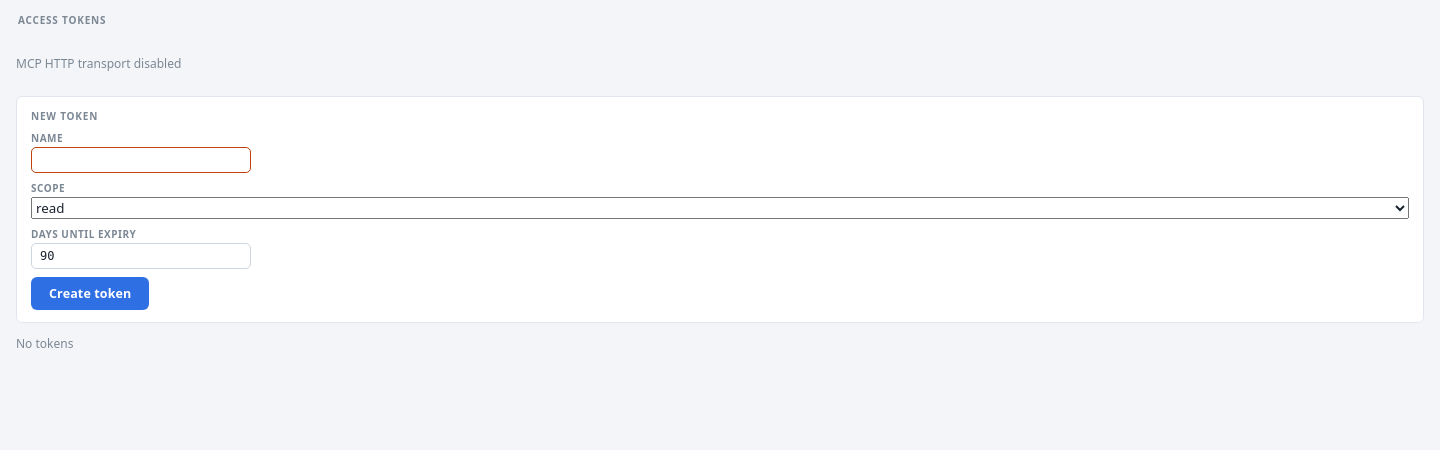
AccessTokensPage: the scope › defaults the scope to read and sends it with the new token
This screenshot has width=1440, height=450.
Check: the dropdown labelled "Scope" shows "read", box [31,197,1409,219]
Type "laptop" into the field labelled "Name" at (141, 160), box [31,147,251,173]
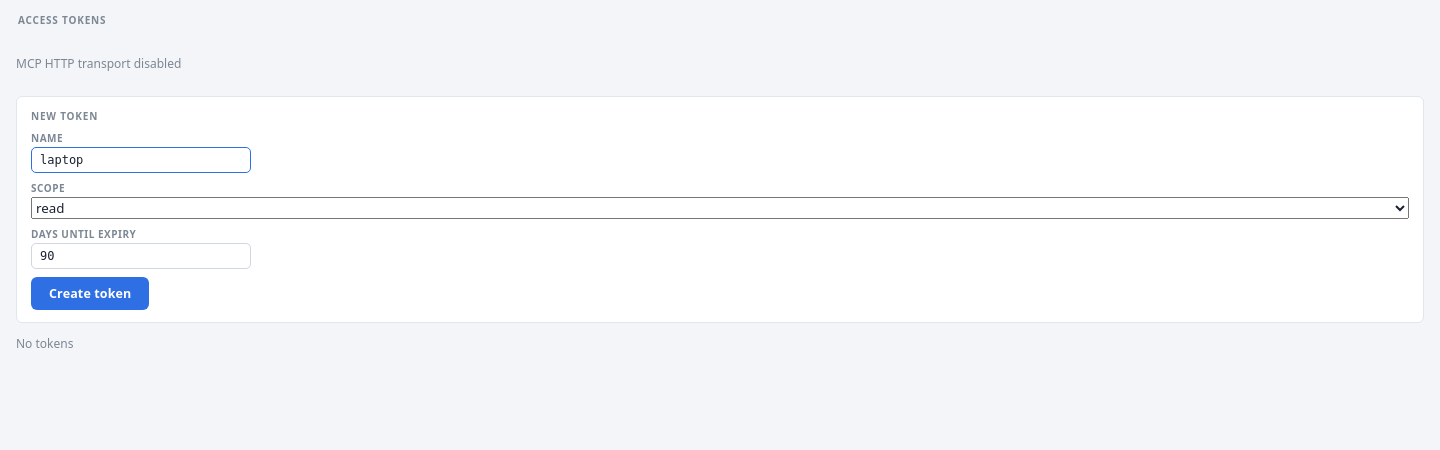
Click the button "Create token" at (90, 294), box [31,277,149,310]
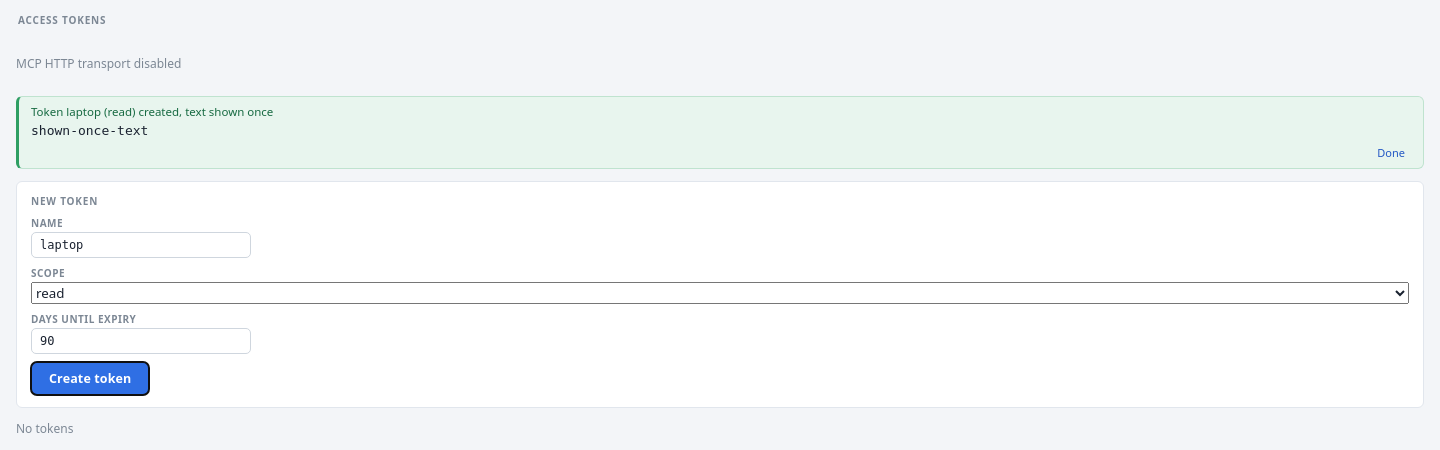
Check: the message named "New token" shows "shown-once-text", box [31,123,148,138]
Check: the message named "New token" shows "(read)", box [107,104,132,119]
